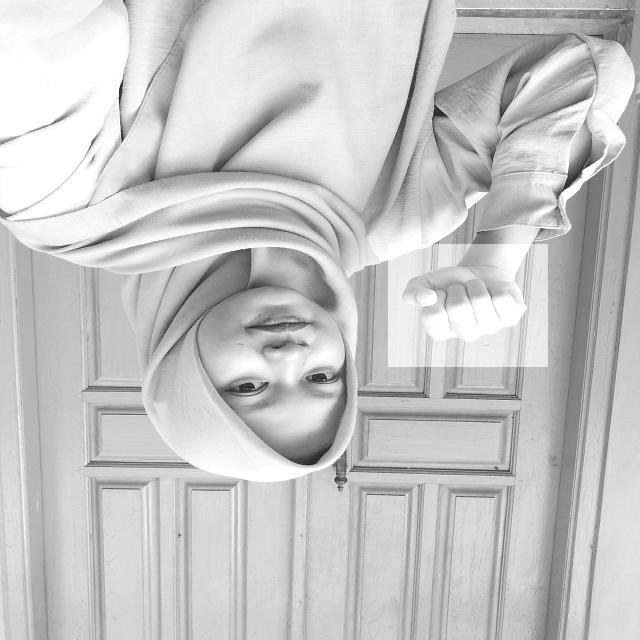baik: (388, 244, 548, 367)
